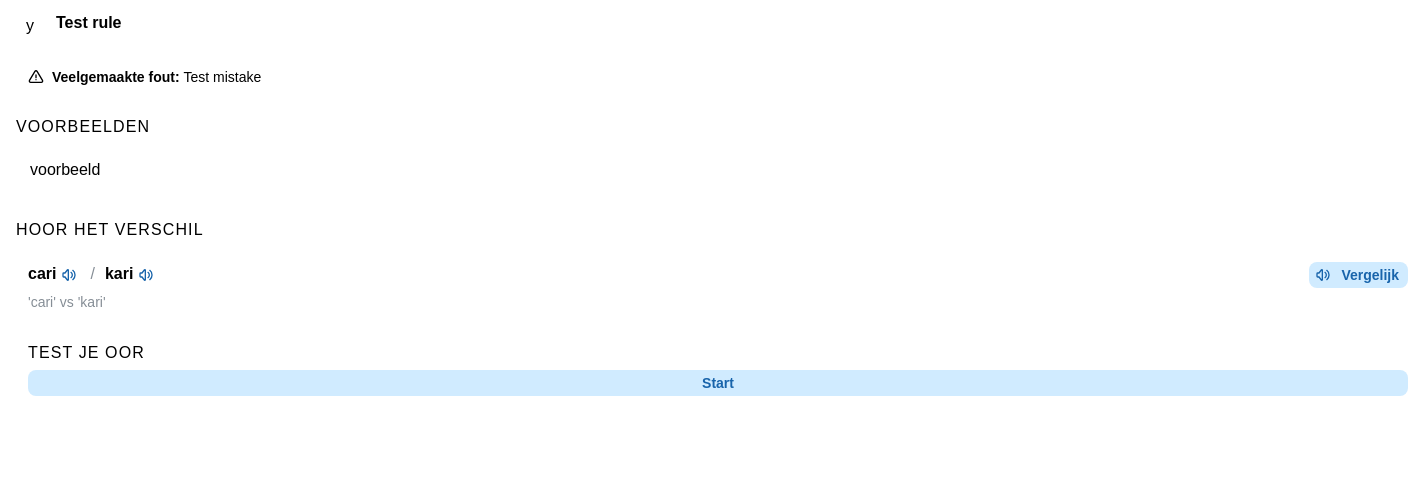
Test: EarQuiz — "Test je oor" (Task U-C) › still plays a round when only the default-voice entry resolves — no PAIR_DRILL_VOICES clip seeded yet (UP3 fallback path)
Click the button "Start": click(718, 383) top-left (28, 370), bottom-right (1408, 396)
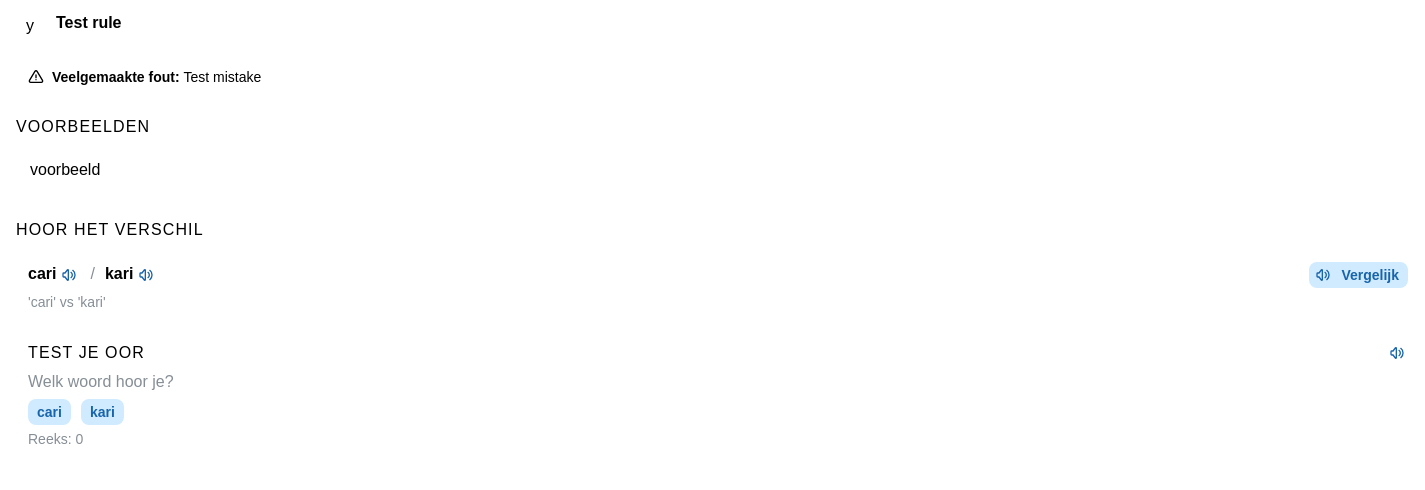
Click the button "cari": click(49, 412) top-left (28, 399), bottom-right (71, 425)
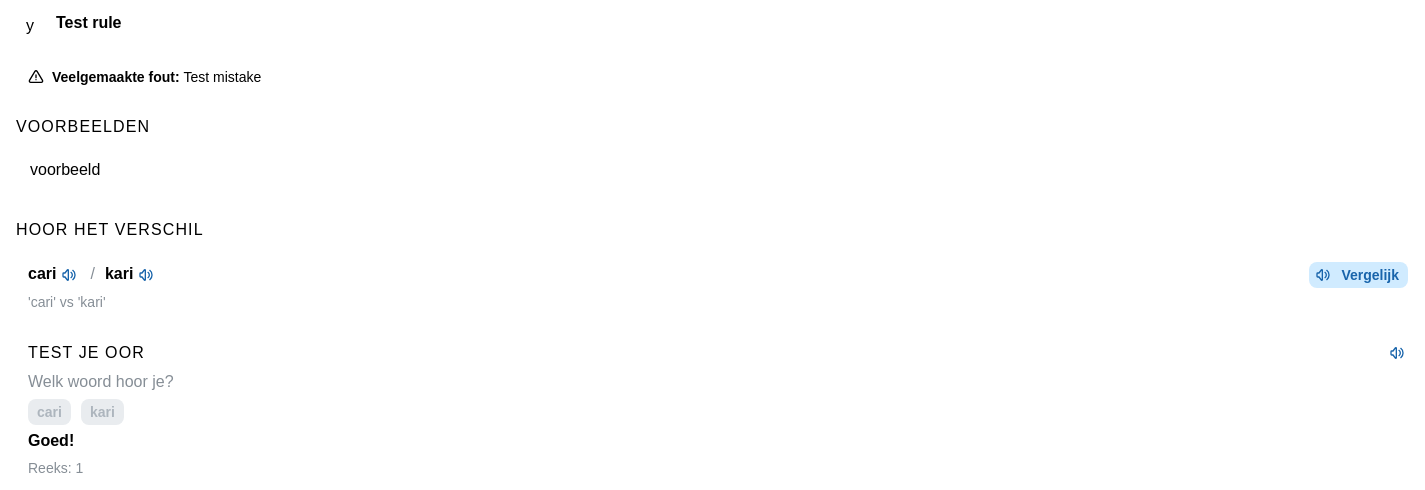
expect the text "Goed!" is shown: met, box top-left (28, 432), bottom-right (74, 449)
